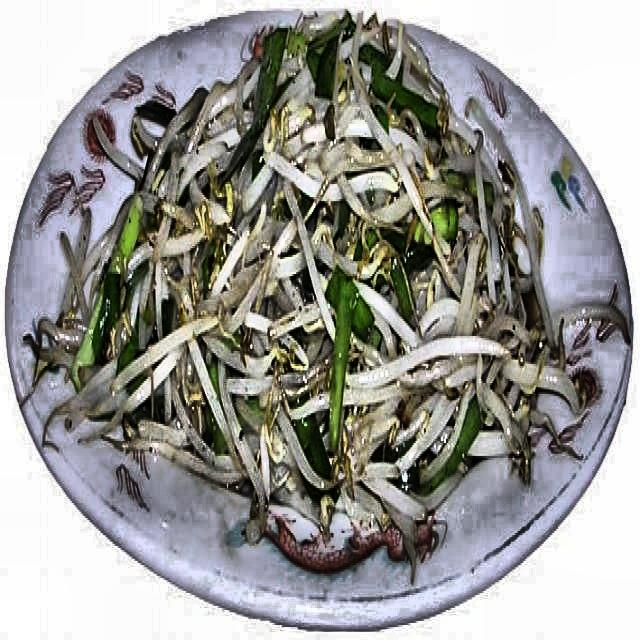Food: (152, 81, 490, 471)
